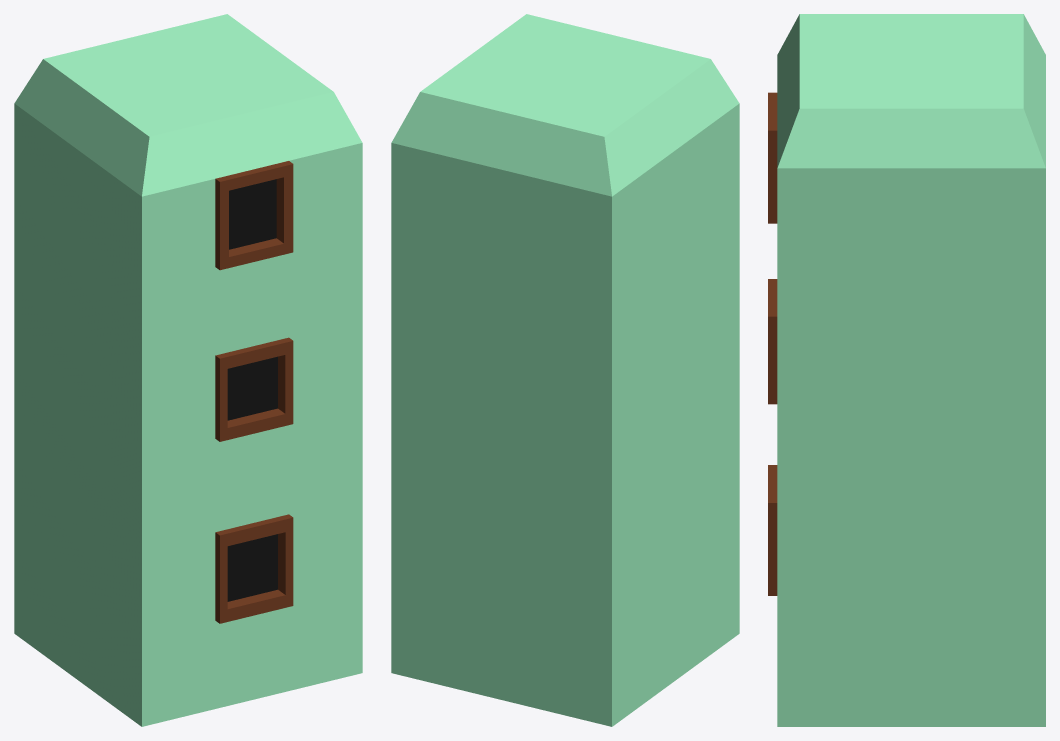
The model's file is BuildingDemo.fbx.
3 renders of one model, left to right at view 1: azimuth 30°, elevation 25°; view 2: azimuth 150°, elevation 25°; view 3: azimuth 270°, elevation 25°, orthographic. The views are drawn at different scales.
Parts seen in each view (by area): view 1: Cube; view 2: Cube; view 3: Cube.
Part boxes in pixels (<box>): Cube: <box>14,14,362,726</box>; Cube: <box>391,14,739,726</box>; Cube: <box>768,14,1045,726</box>.
Bounding box in the file's own units: 200 × 500 × 207.
